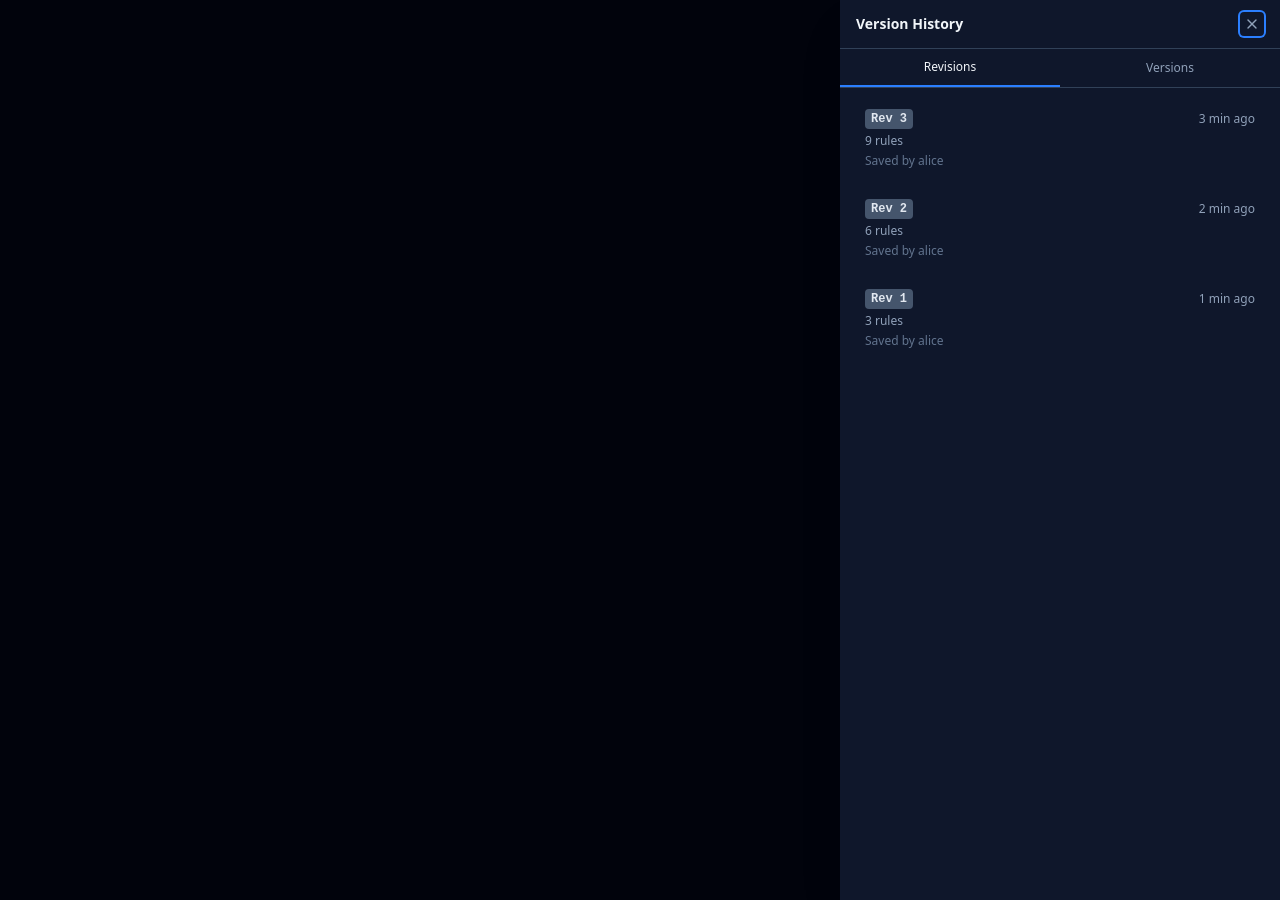
VersionHistoryDrawer — two-tab mode (T-07) › renders versions list on Versions tab
Click the tab with test id "tab-versions": [1170, 68] box [1060,49,1279,87]
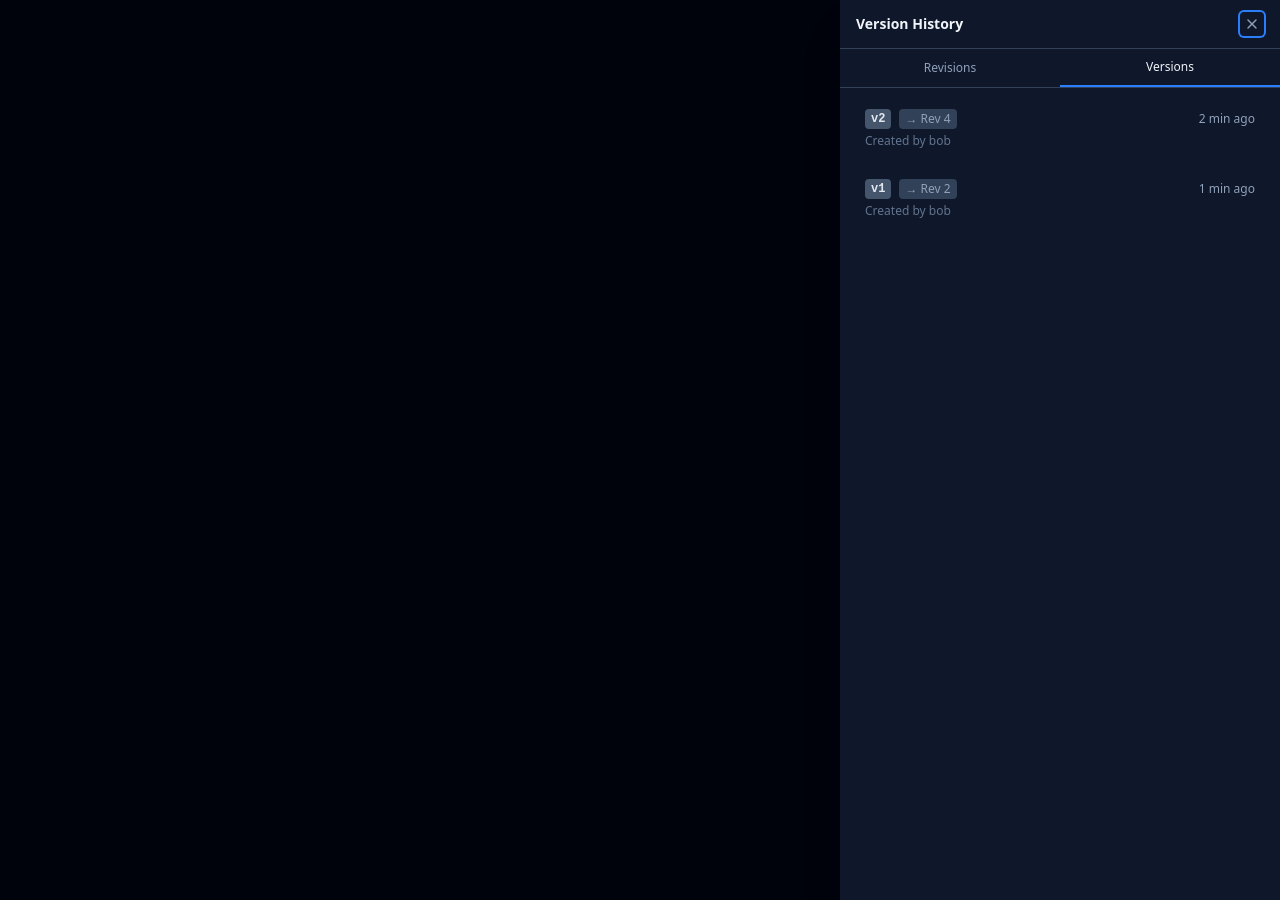
expect the element with test id "versions-list" is shown: met, box [852,96,1268,232]
expect the button with test id "version-item-2" is shown: met, box [852,96,1268,162]
expect the button with test id "version-item-1" is shown: met, box [852,166,1268,232]
